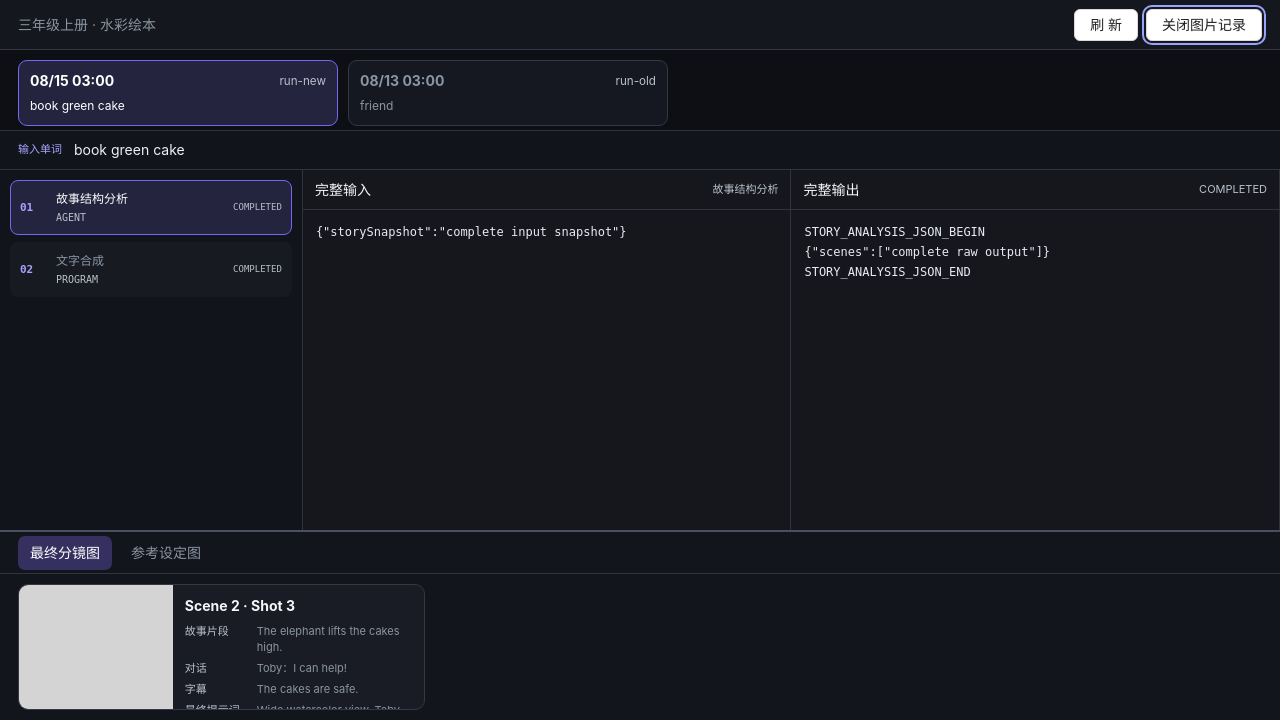
Test: ImageRunHistory › renders actual AGENT and PROGRAM steps by sequence with complete raw input and output
Expected: the button "01 故事结构分析 AGENT COMPLETED" is shown, [10, 180, 292, 235]
Expected: the element "完整输入" shows "{\"storySnapshot\":\"complete input snapshot\"}", [316, 225, 627, 239]
Click the button "02 文字合成 PROGRAM COMPLETED".
click(80, 261)  # box [10, 242, 292, 297]
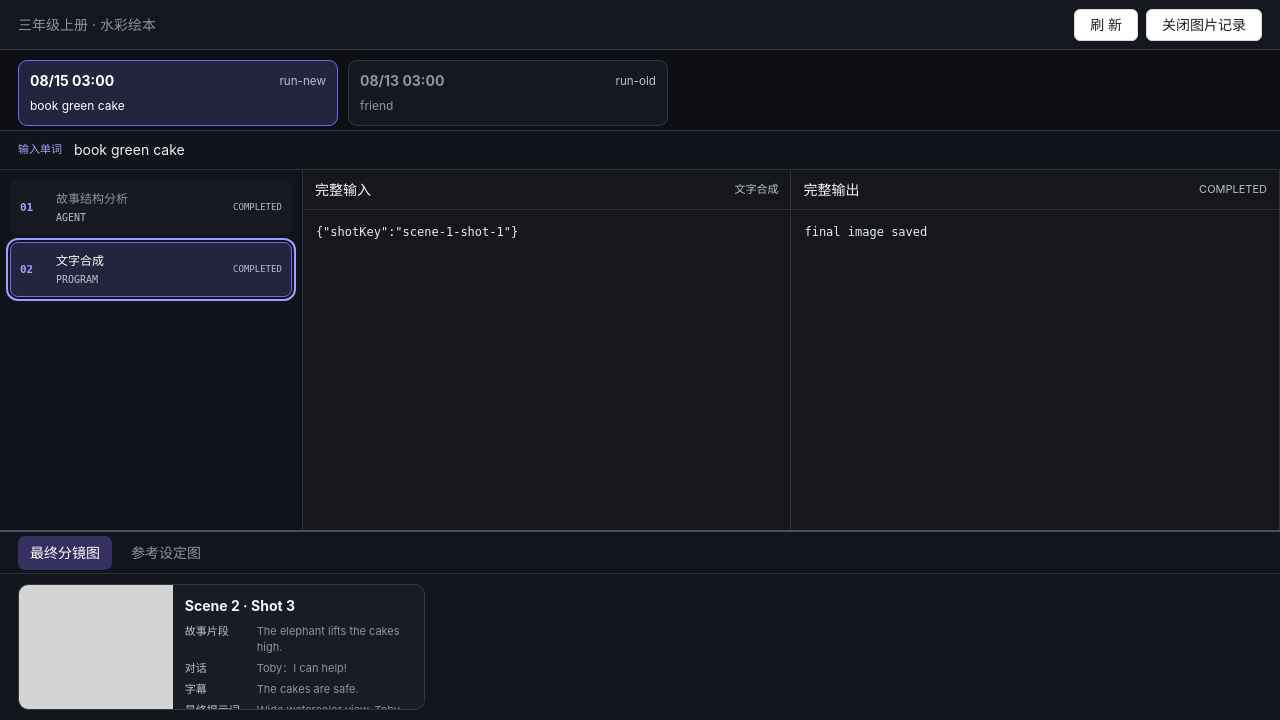
Now the element "完整输入" shows "{\"shotKey\":\"scene-1-shot-1\"}", box [316, 225, 518, 239]
Now the element "完整输出" shows "final image saved", box [804, 225, 927, 239]
